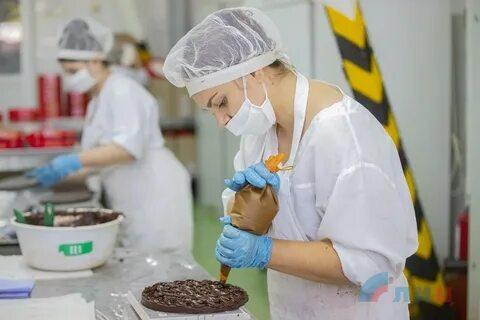hairnet: (155, 3, 313, 106), (54, 15, 122, 71)
mask: (226, 84, 281, 145), (46, 52, 106, 107)
